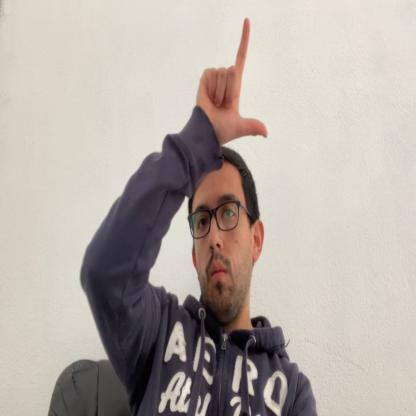L: (196, 16, 267, 147)
